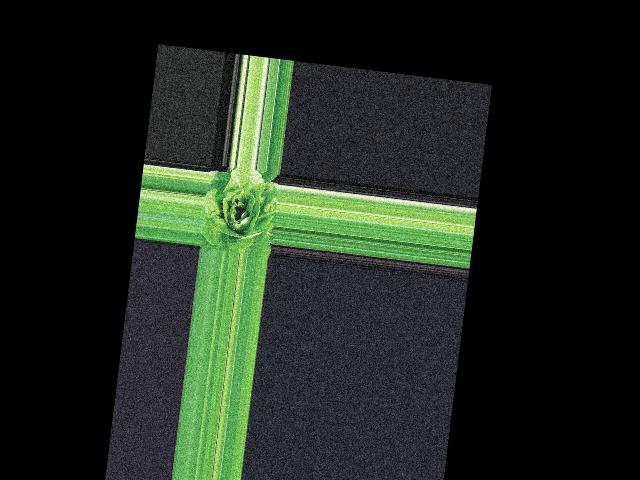lettuce: (201, 168, 281, 256)
